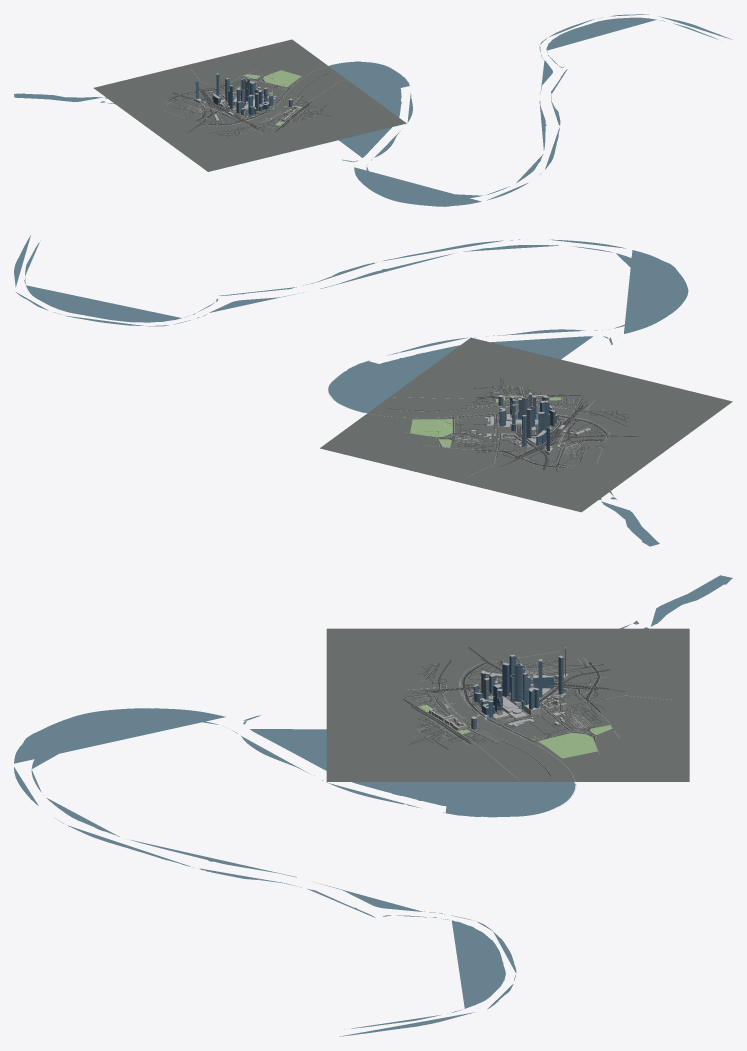
File: msk-city-current.glb
3 views of the same model, one above another, from view 1: azimuth 30°, elevation 25°; view 2: azimuth 150°, elevation 25°; view 3: azimuth 270°, elevation 25° (orthographic). The views are drawn at different scales.
Size of the model in its own units: 9622 by 375 by 6337.
Materials: 26 (8 with a texture image).
